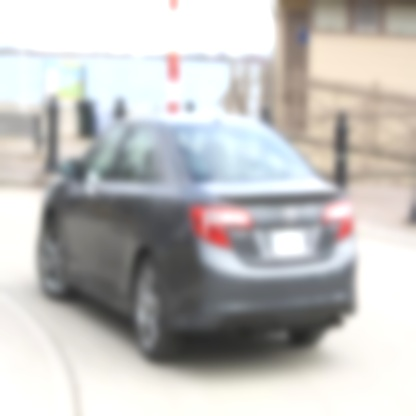Vehicle: (37, 113, 356, 364)
